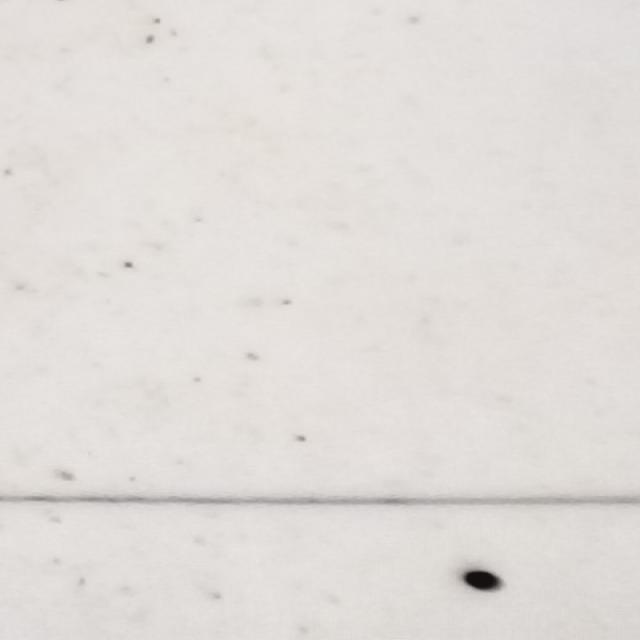varroa: (459, 569, 507, 595)
